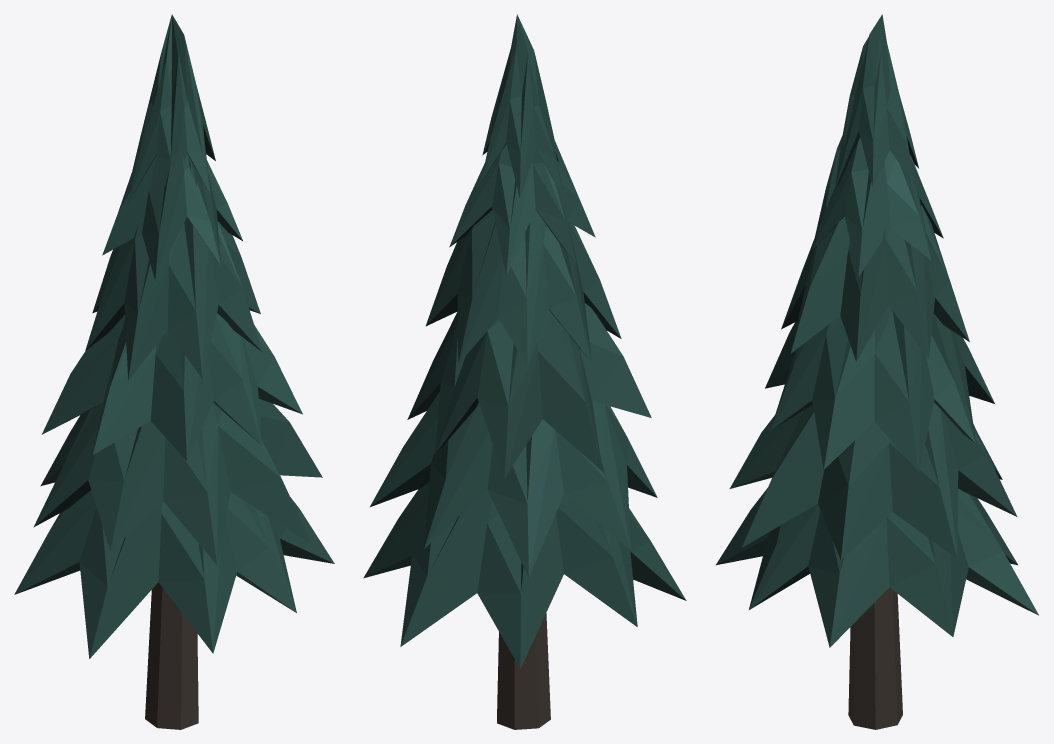
Rendered from Spruce3.glb.
The picture shows the model from 3 angles, left to right: view 1: azimuth 30°, elevation 25°; view 2: azimuth 150°, elevation 25°; view 3: azimuth 270°, elevation 25°; orthographic projection.
Parts seen in each view (by area): view 1: Spruce3; view 2: Spruce3; view 3: Spruce3.
Part boxes in pixels (x1=…): Spruce3: x1=14, y1=14, x2=334, y2=729; Spruce3: x1=363, y1=14, x2=686, y2=729; Spruce3: x1=716, y1=14, x2=1038, y2=729.
Bounding box in the file's own units: 0.4112 × 1 × 0.4166.
